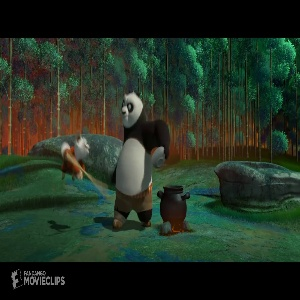po: (105, 88, 173, 230)
shifu: (57, 134, 91, 183)
